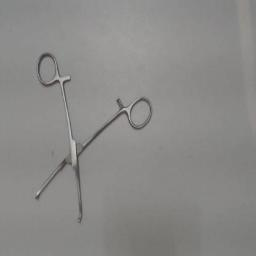Allis Tissue Forceps: (28, 46, 158, 230)
